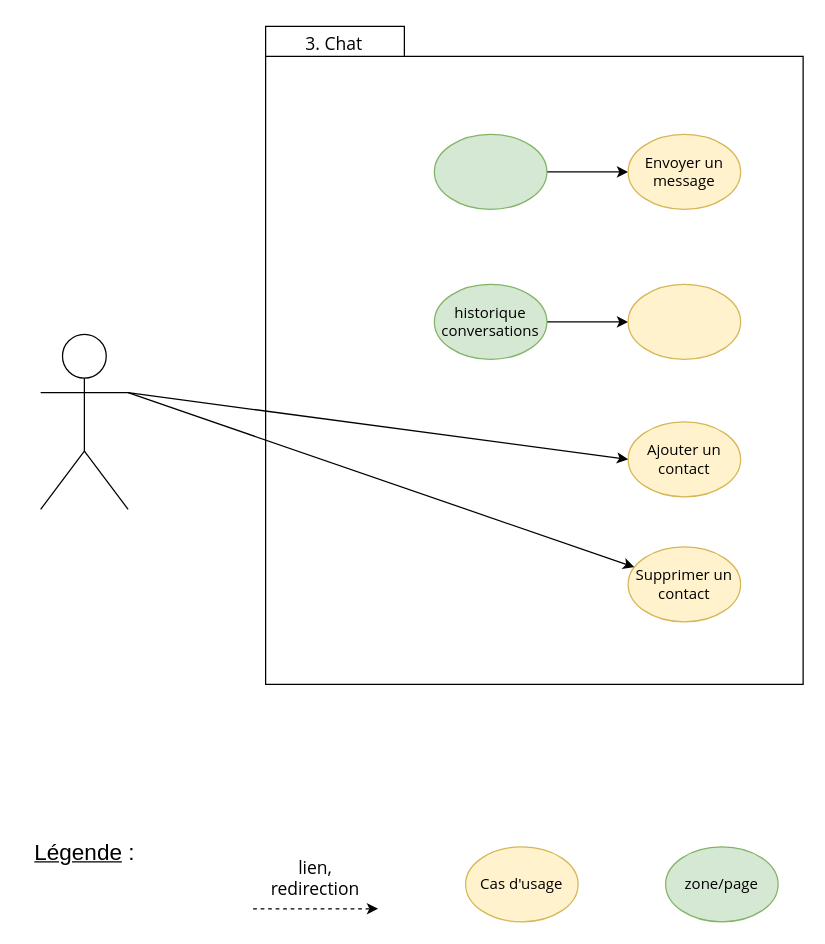
The diagram is 825 pixels wide and 944 high, and some of its shapes have lost their labels. Each missing label, with the centre of its shape:
"Basculer entre conversations" belongs at [684,321].
"discussion instantanée" belongs at [490,171].
"Élève / Tuteur" belongs at [83,421].
